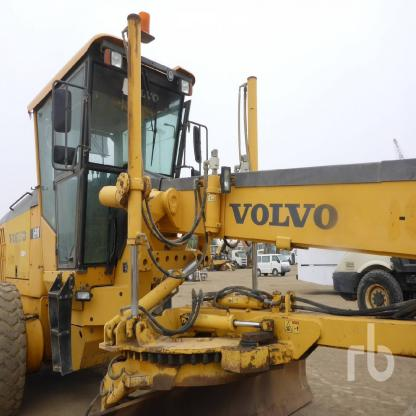bull_dozer/loader/grader: (1, 21, 416, 416)
